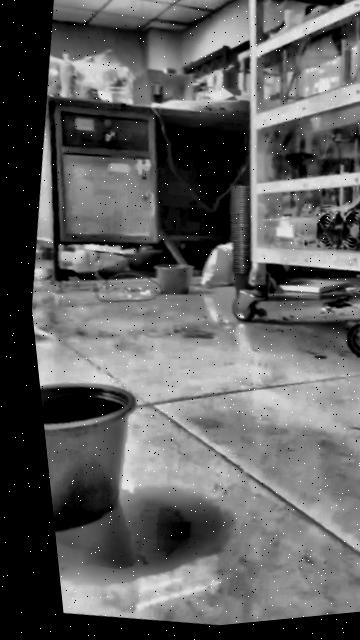pot: (39, 368, 151, 544)
